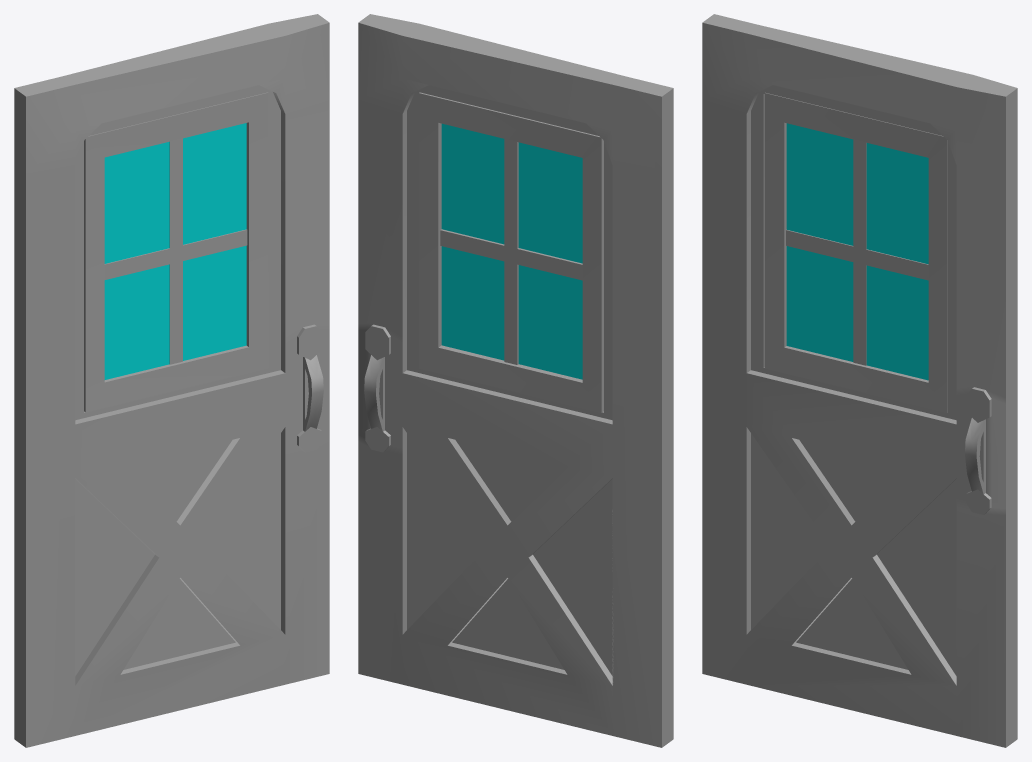
The model's file is Fixed_DoorC.fbx.
3 views of the same model, side by side, from view 1: azimuth 30°, elevation 25°; view 2: azimuth 150°, elevation 25°; view 3: azimuth 330°, elevation 25° (orthographic).
Visible parts, largest first — view 1: DoorC_fixed; view 2: DoorC_fixed; view 3: DoorC_fixed.
Part boxes in pixels (x1,y1,x2,y2): DoorC_fixed: (14, 14, 329, 747); DoorC_fixed: (358, 14, 673, 747); DoorC_fixed: (702, 14, 1017, 747).
Size of the model in its own units: 3 by 6.15 by 0.6038.
